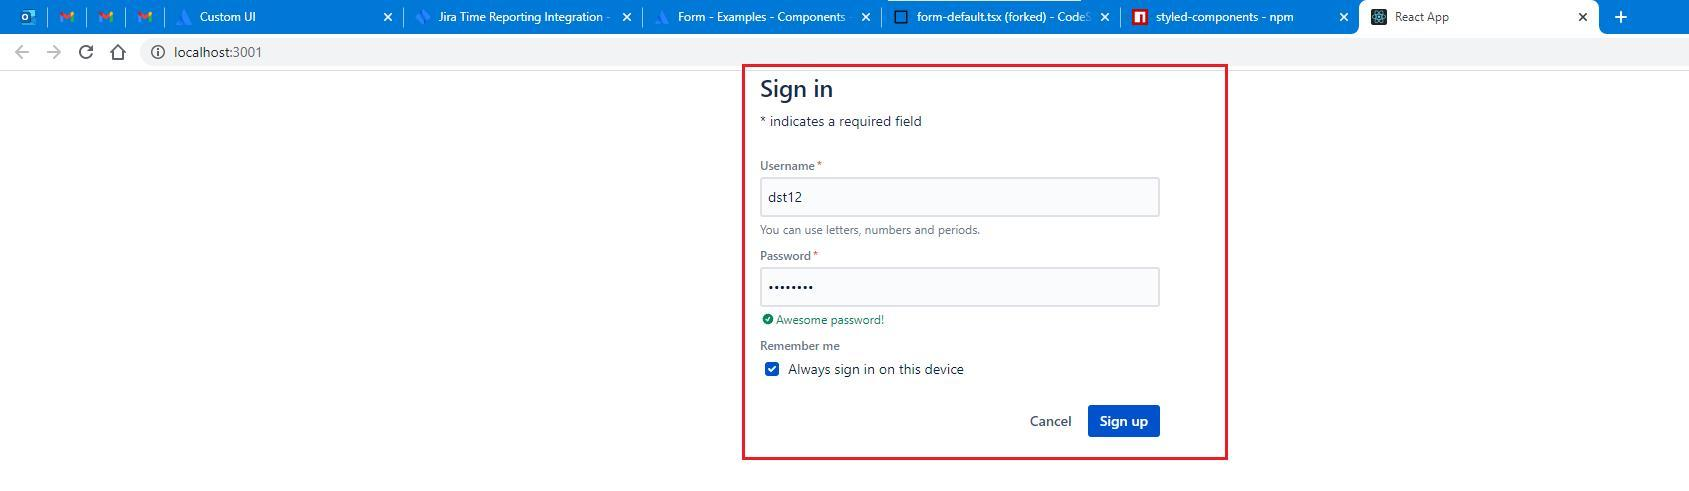button: (1088, 406, 1161, 439)
checkbox: (766, 363, 780, 377)
icon: (78, 44, 97, 62), (111, 43, 128, 64), (47, 45, 62, 64), (16, 45, 31, 64)
input: (760, 178, 1160, 216), (762, 269, 1160, 308)
label: (791, 362, 969, 380), (759, 75, 839, 107), (758, 340, 844, 356), (758, 157, 828, 177), (758, 248, 822, 265), (1027, 413, 1077, 430)
